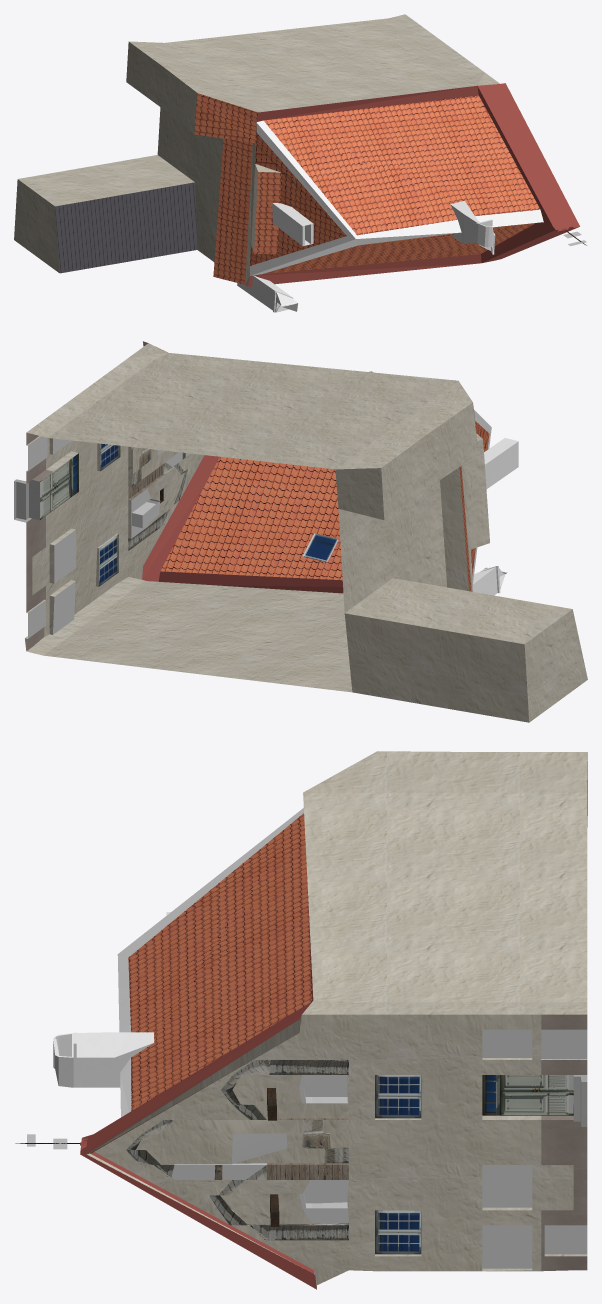
Rendered from Ryytli_10-origo.obj.
3 views of the same model, one above another, from view 1: azimuth 30°, elevation 25°; view 2: azimuth 150°, elevation 25°; view 3: azimuth 270°, elevation 25° (orthographic). The views are drawn at different scales.
Visible parts, largest first — view 1: Ryytli_10; view 2: Ryytli_10; view 3: Ryytli_10.
Part boxes in pixels (left/top/right/bottom): Ryytli_10: left=14, top=14, right=586, bottom=312; Ryytli_10: left=14, top=341, right=587, bottom=722; Ryytli_10: left=15, top=751, right=587, bottom=1289.
Size of the model in its own units: 21.62 by 11 by 17.3.
